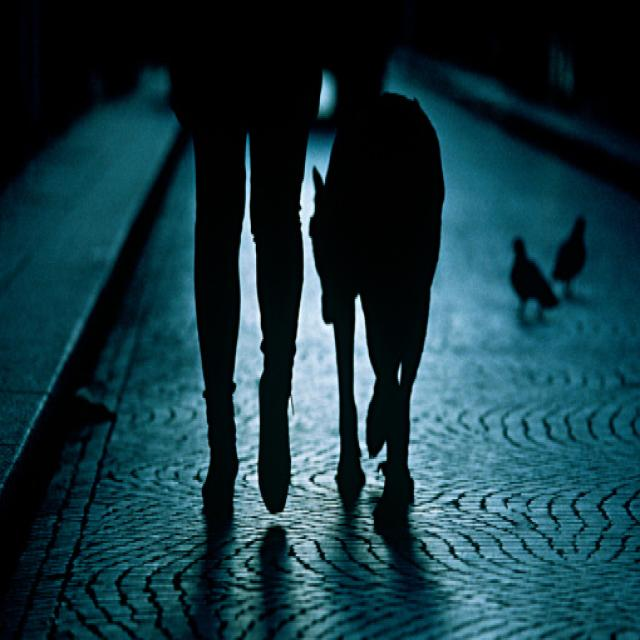Dog: (316, 131, 498, 509)
